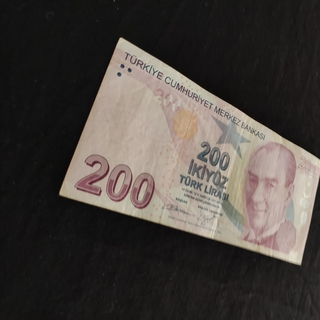200TLFront: (59, 36, 320, 265)
